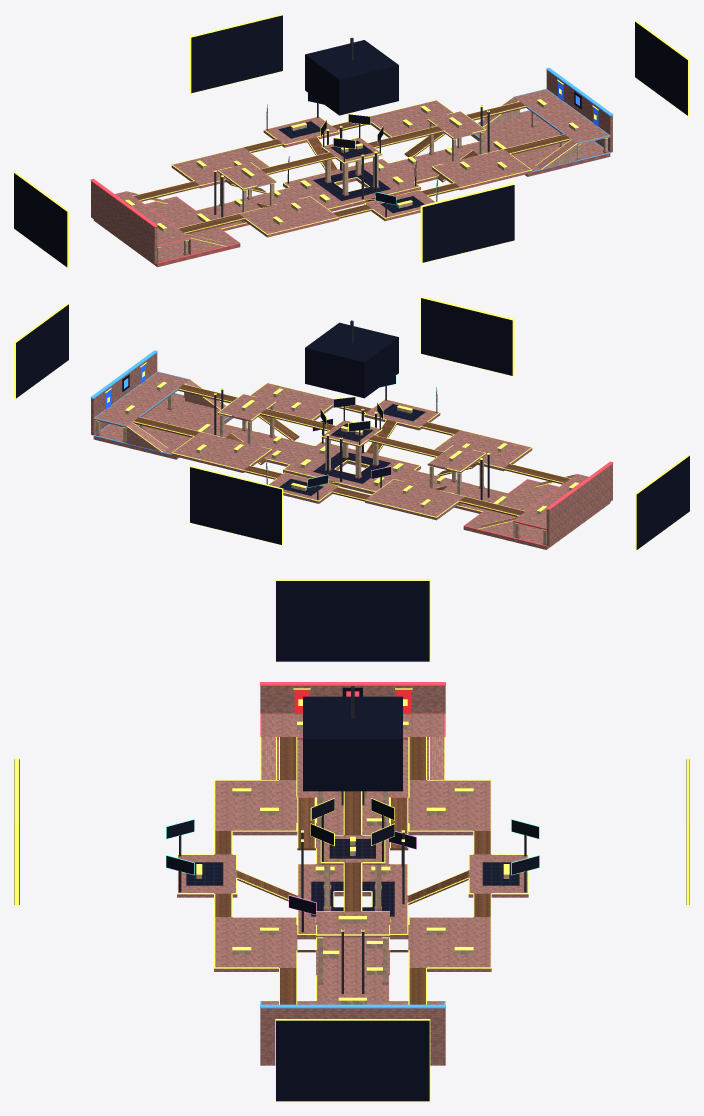
File: skyreach_map_v9.glb
3 views of the same model, one above another, from view 1: azimuth 30°, elevation 25°; view 2: azimuth 150°, elevation 25°; view 3: azimuth 270°, elevation 25° (orthographic). The views are drawn at different scales.
Visible parts, largest first — view 1: skyreach_map_v9; view 2: skyreach_map_v9; view 3: skyreach_map_v9.
Part boxes in pixels (<box>): skyreach_map_v9: <box>14,14,689,267</box>; skyreach_map_v9: <box>14,296,689,550</box>; skyreach_map_v9: <box>14,579,689,1101</box>.
Bounding box in the file's own units: 226 × 52.02 × 146.
Materials: 25 (14 with a texture image).
